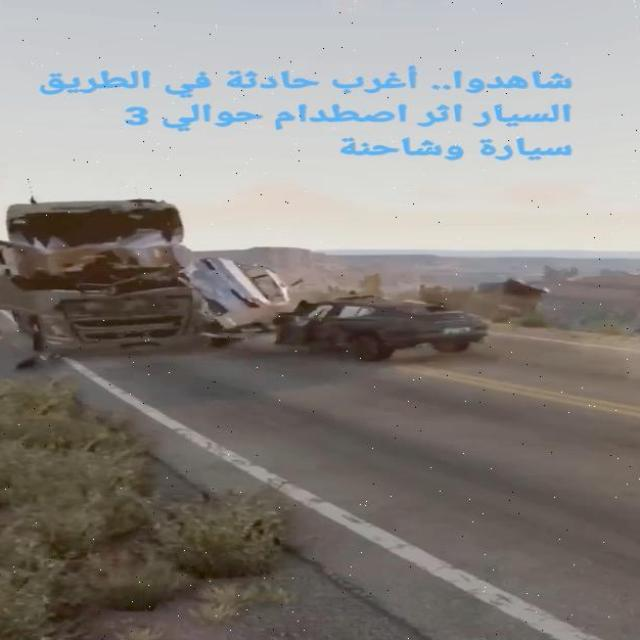accident: (0, 178, 484, 363)
